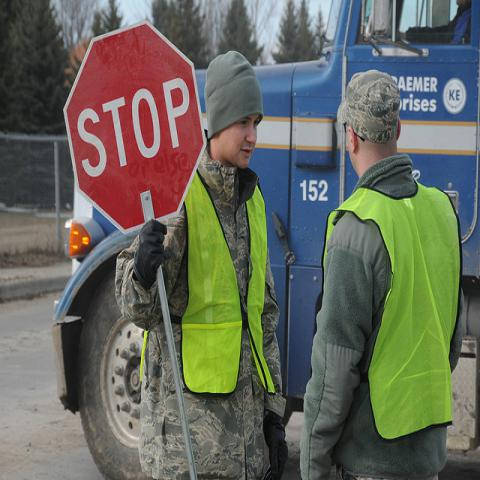truck: (53, 0, 479, 475)
